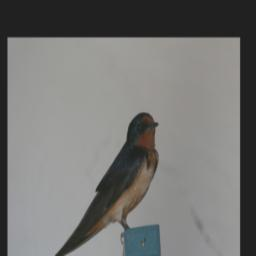Swallow: (48, 109, 162, 256)
